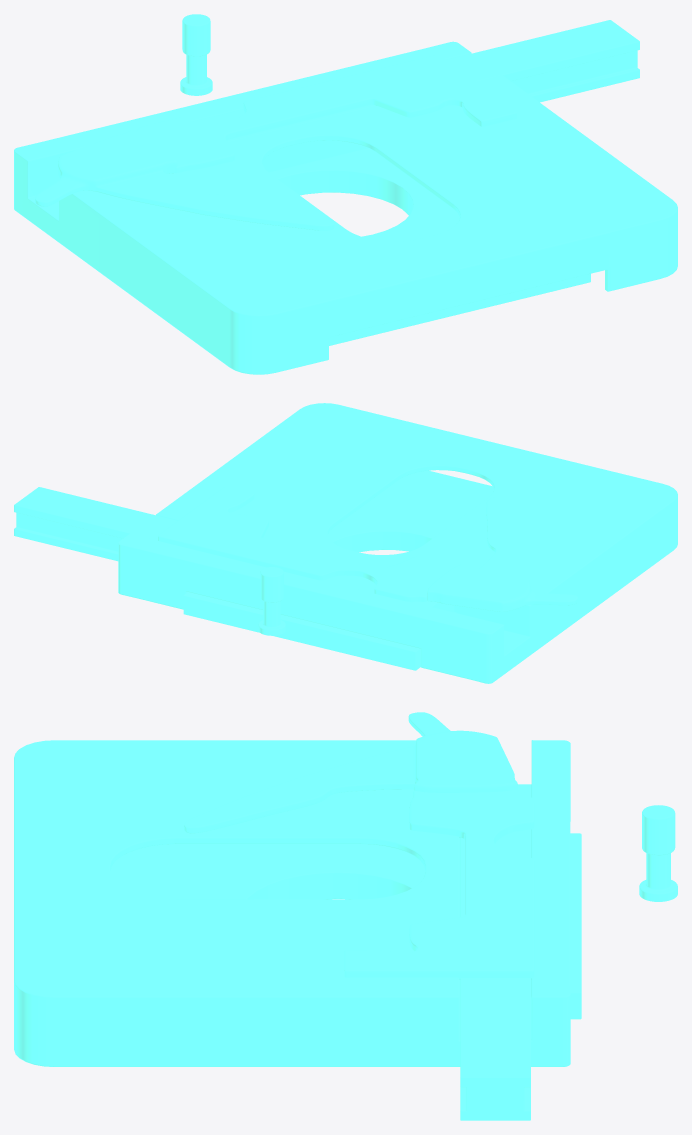
Rendered from hstage.gltf.
3 views of the same model, one above another, from view 1: azimuth 30°, elevation 25°; view 2: azimuth 150°, elevation 25°; view 3: azimuth 270°, elevation 25° (orthographic). The views are drawn at different scales.
Visible parts, largest first — view 1: tray, slide holder, slideholder2, rail, tray2, focus stop; view 2: tray, tray2, slide holder, rail, slideholder2, focus stop; view 3: tray, slide holder, tray2, slideholder2, rail, focus stop.
Boxes of the visible parts, box(x1,y1,x2,y2) form: tray: box(14, 41, 677, 374); slide holder: box(136, 54, 516, 173); slideholder2: box(35, 130, 334, 230); rail: box(193, 20, 639, 142); tray2: box(269, 148, 590, 345); focus stop: box(180, 14, 212, 95); tray: box(118, 403, 677, 683); tray2: box(183, 470, 494, 670); slide holder: box(158, 487, 454, 602); rail: box(14, 487, 456, 612); slideholder2: box(427, 497, 577, 611); focus stop: box(258, 567, 285, 635); tray: box(14, 740, 570, 1066); slide holder: box(344, 789, 534, 979); tray2: box(110, 833, 581, 1019); slideholder2: box(184, 712, 517, 833); rail: box(460, 790, 530, 1120); focus stop: box(639, 805, 677, 901).
Bounding box in the file's own units: 0.1753 × 0.0292 × 0.137.
